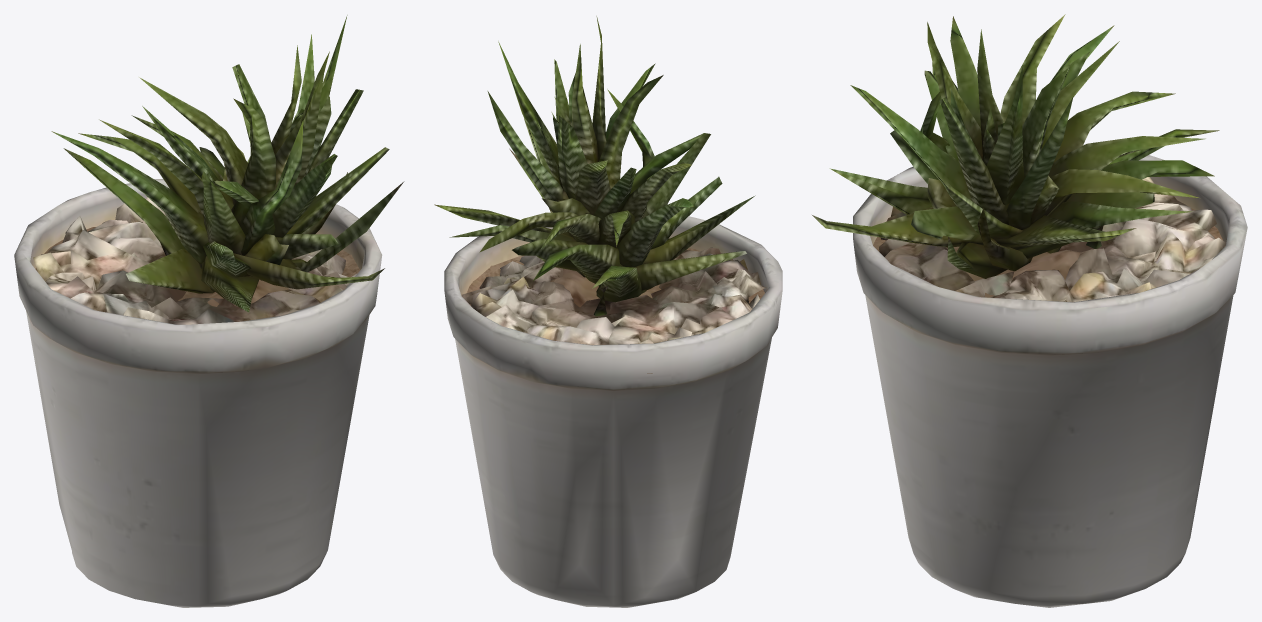
The model's file is potted_plant_04.cbe9bbad.glb.
The picture shows the model from 3 angles, left to right: view 1: azimuth 30°, elevation 25°; view 2: azimuth 150°, elevation 25°; view 3: azimuth 270°, elevation 25°; orthographic projection. The views are drawn at different scales.
Parts seen in each view (by area): view 1: potted_plant_04_pot, potted_plant_04_plant, potted_plant_04_ground, potted_plant_04_dirt; view 2: potted_plant_04_pot, potted_plant_04_plant, potted_plant_04_ground, potted_plant_04_dirt; view 3: potted_plant_04_pot, potted_plant_04_plant, potted_plant_04_ground, potted_plant_04_dirt.
Part boxes in pixels (x1,y1,x2,y2): potted_plant_04_pot: (14, 179, 382, 607); potted_plant_04_plant: (51, 15, 404, 312); potted_plant_04_ground: (33, 197, 356, 324); potted_plant_04_dirt: (35, 227, 360, 306); potted_plant_04_pot: (444, 216, 782, 607); potted_plant_04_plant: (434, 16, 755, 316); potted_plant_04_ground: (461, 247, 766, 345); potted_plant_04_dirt: (467, 248, 764, 373); potted_plant_04_pot: (853, 144, 1247, 607); potted_plant_04_plant: (812, 14, 1219, 278); potted_plant_04_ground: (879, 177, 1225, 302); potted_plant_04_dirt: (873, 208, 1224, 297).
Size of the model in its own units: 0.1665 by 0.2671 by 0.1838.
Materials: 1 (1 with a texture image).
